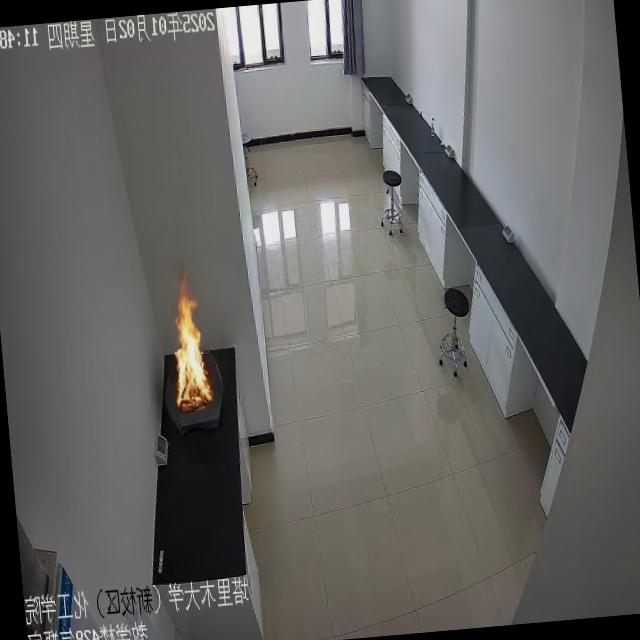fire: (128, 237, 234, 438)
